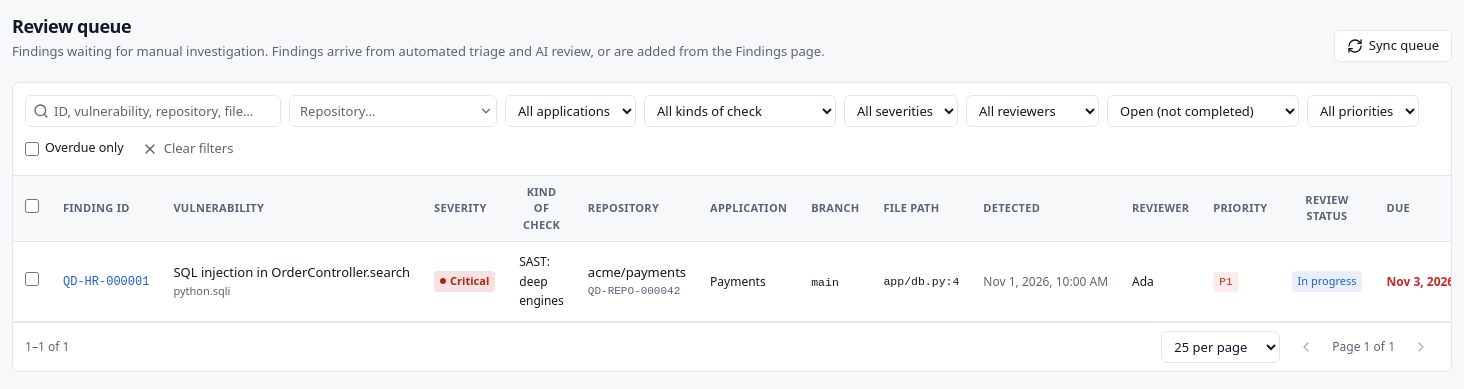
Test: review queue › renders the required columns and sorts on the server
expect the link "QD-HR-000001" is shown: met, box x1=63 y1=275 x2=149 y2=289
Click the button with aria-label "Sort by Severity". click: (460,208)
box: x1=434 y1=200 x2=487 y2=216
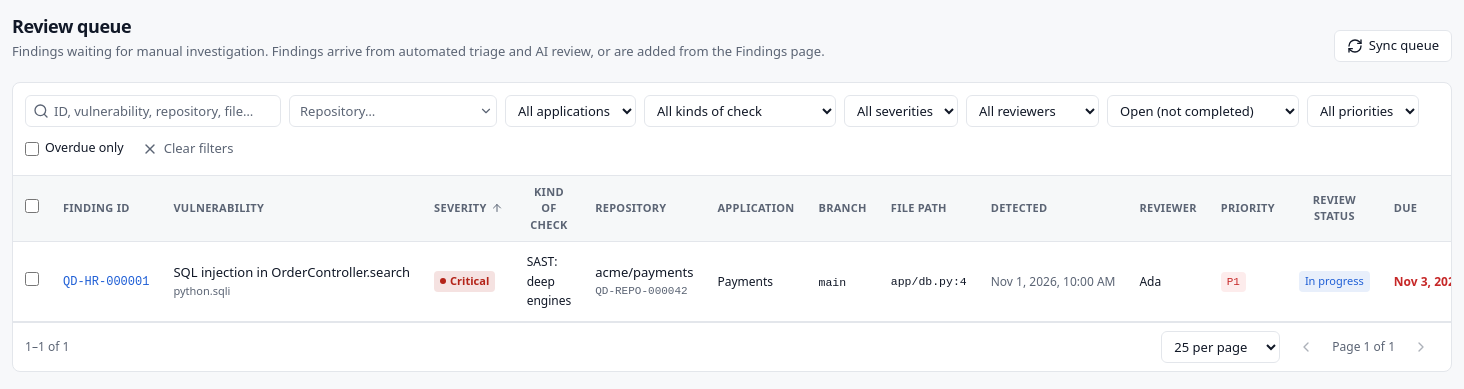
Note: Bulk actions appear on selection for review managers.
Click the checkbox named "Select QD-HR-000001". click: (32,278)
box: x1=25 y1=272 x2=39 y2=286
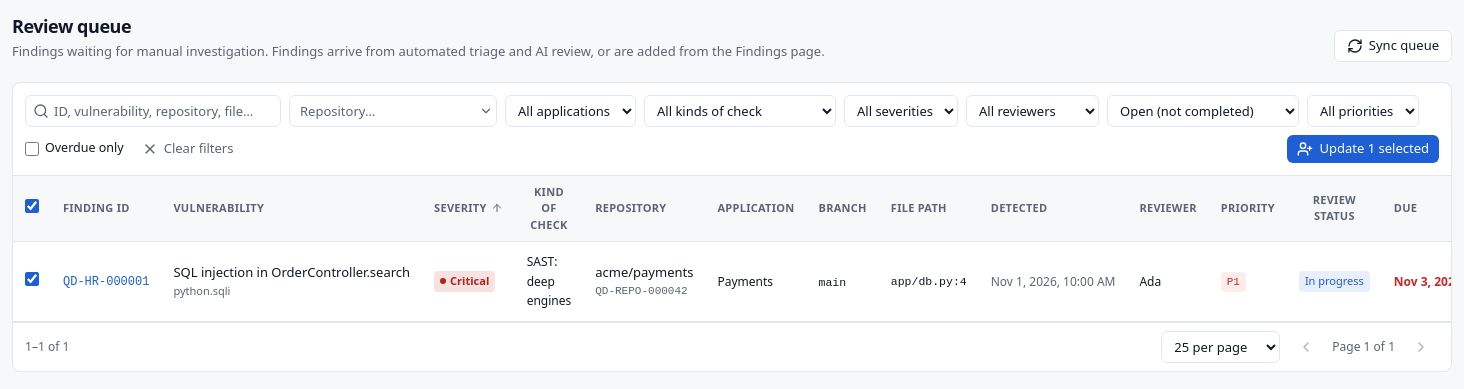
expect the button "Update 1 selected" is shown: met, box x1=1288 y1=134 x2=1439 y2=162
